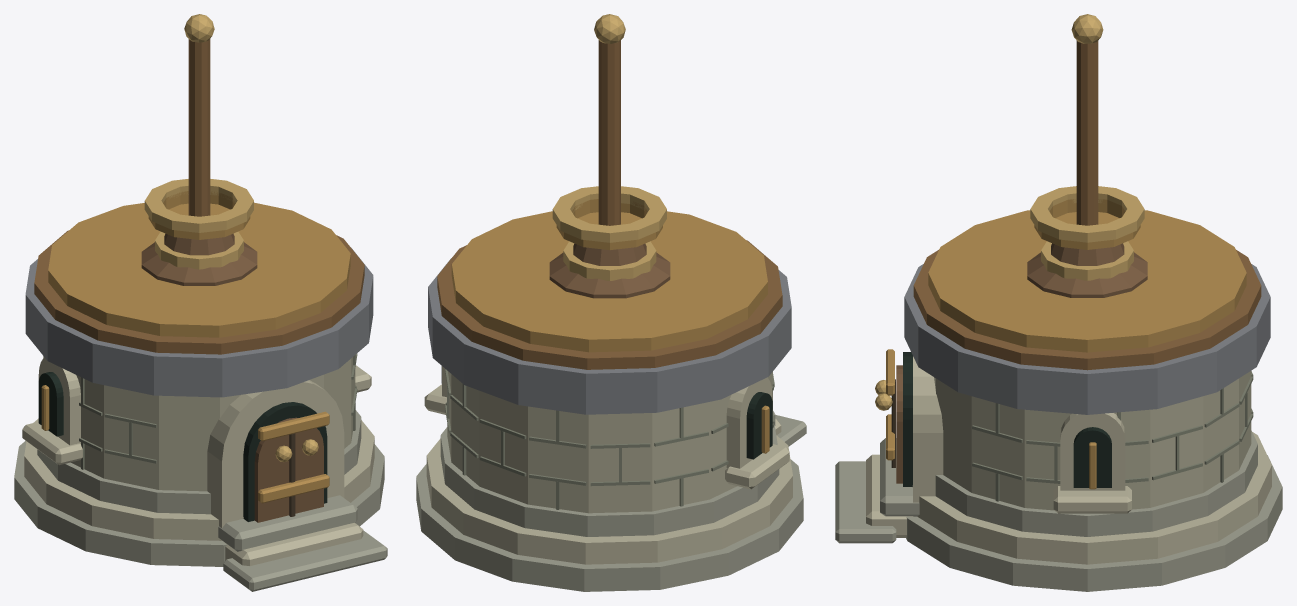
Rendered from energy_tower.glb.
3 views of the same model, side by side, from view 1: azimuth 30°, elevation 25°; view 2: azimuth 150°, elevation 25°; view 3: azimuth 270°, elevation 25° (orthographic). The views are drawn at different scales.
Visible parts, largest first — view 1: Stone, Metal, Heraldry, Timber; view 2: Stone, Metal, Heraldry, Timber; view 3: Stone, Metal, Heraldry, Timber.
Part boxes in pixels (x1,y1,x2,y2): Stone: [14, 353, 387, 591]; Metal: [34, 14, 364, 503]; Heraldry: [25, 247, 373, 397]; Timber: [141, 233, 323, 522]; Stone: [416, 366, 806, 591]; Metal: [437, 14, 782, 453]; Heraldry: [428, 258, 791, 414]; Timber: [549, 243, 670, 298]; Stone: [835, 352, 1282, 591]; Metal: [875, 14, 1261, 489]; Heraldry: [904, 264, 1270, 414]; Timber: [891, 243, 1147, 483].
Size of the model in its own units: 2.41 by 3.37 by 2.76.
